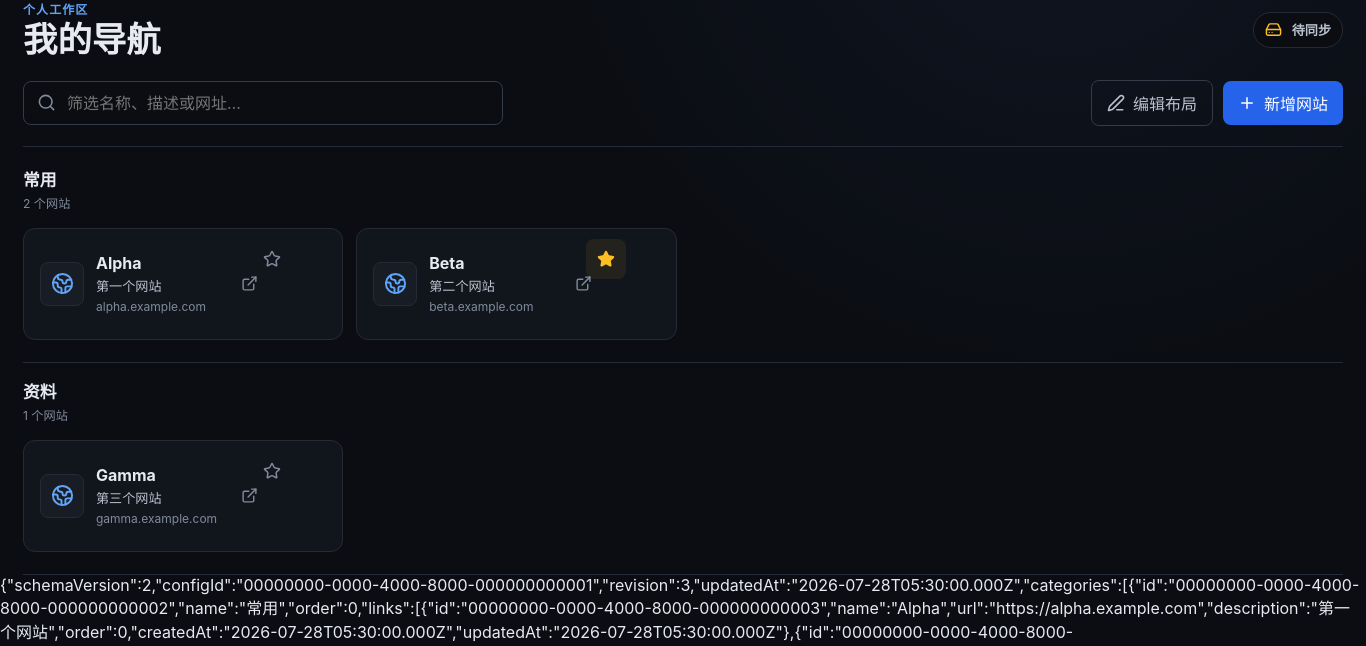
Test case: Navigation › uses custom dialogs for category editing and never depends on native prompt or confirm
Expected: the heading "我的导航" is shown, [23,20,161,60]
Click the button "编辑布局": (1152, 103) [1091,80,1213,126]
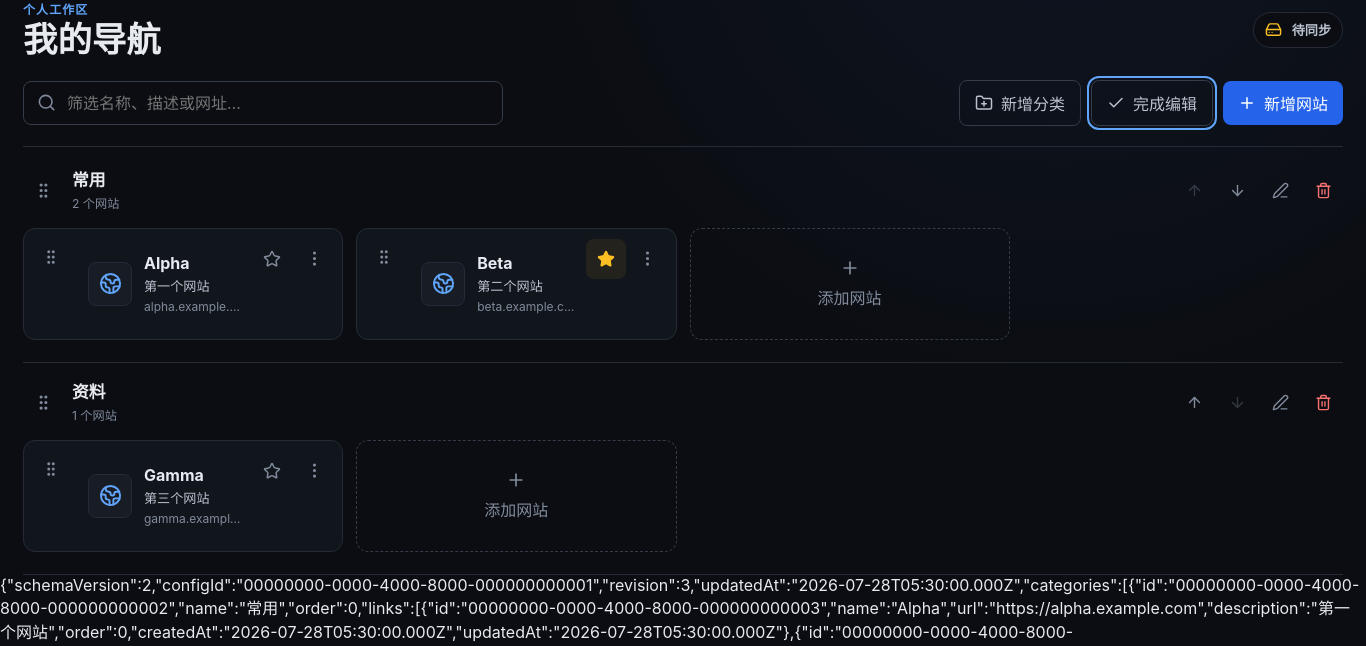
Click the button named "编辑分类 常用": (1280, 191) [1260,171,1300,211]
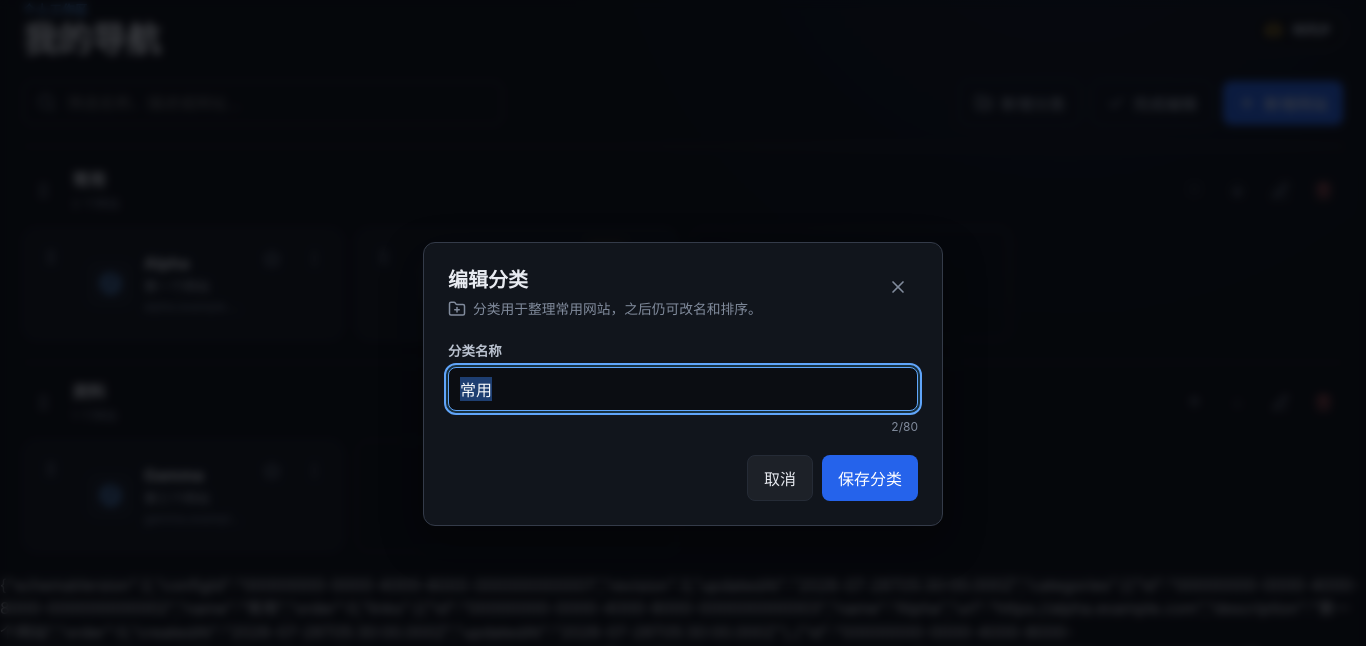
Replace the text in the field labelled "分类名称" with "每日": (683, 389) [448,367,918,411]
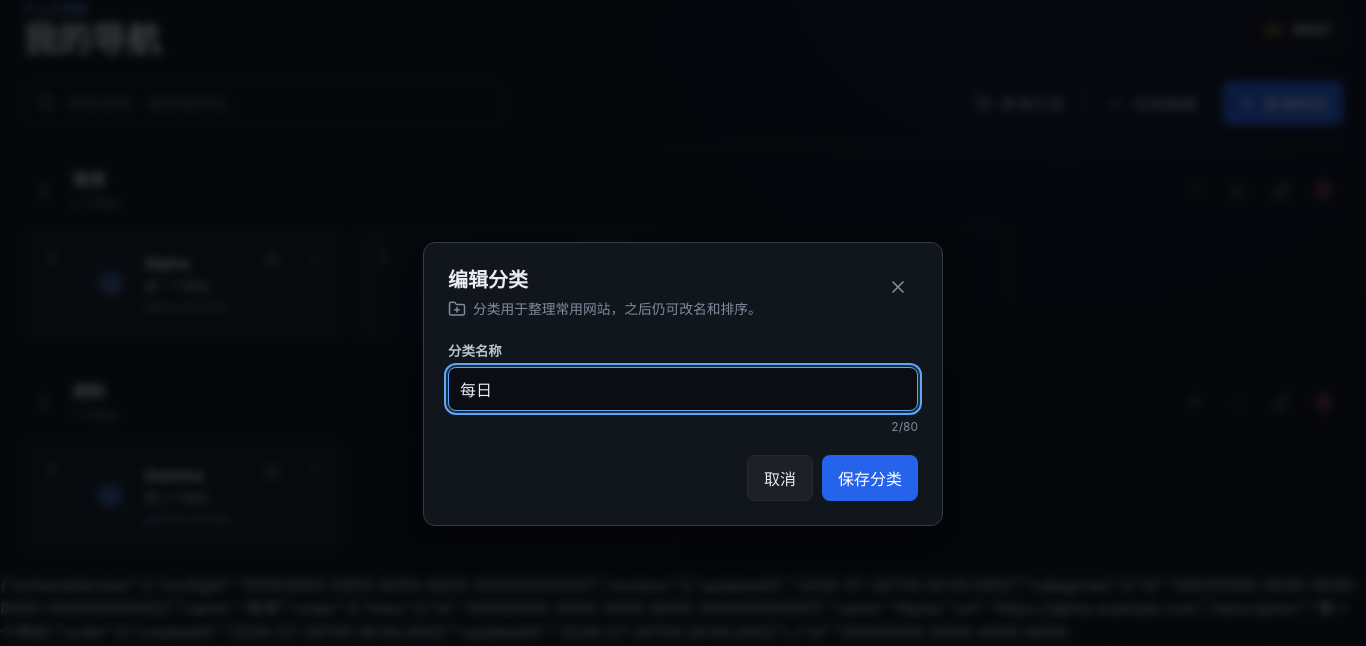
Click the button "保存分类": (870, 478) [822,455,918,501]
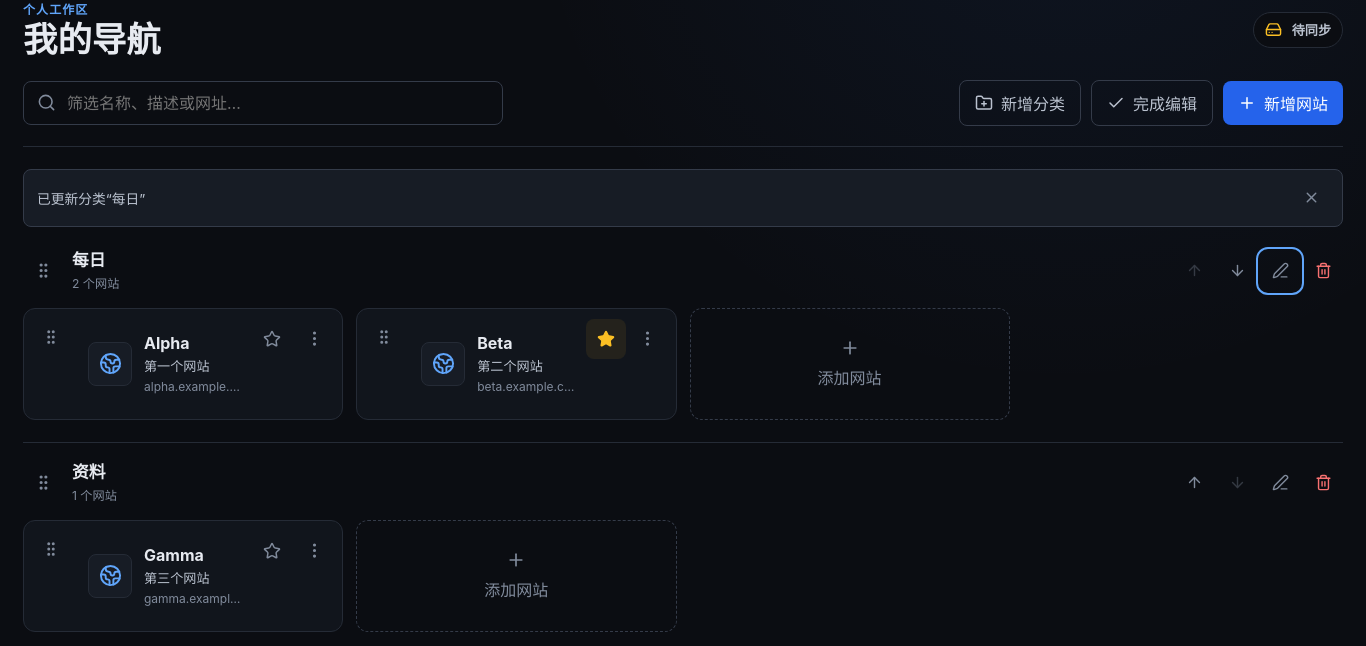
Now the heading "编辑分类" is gone
